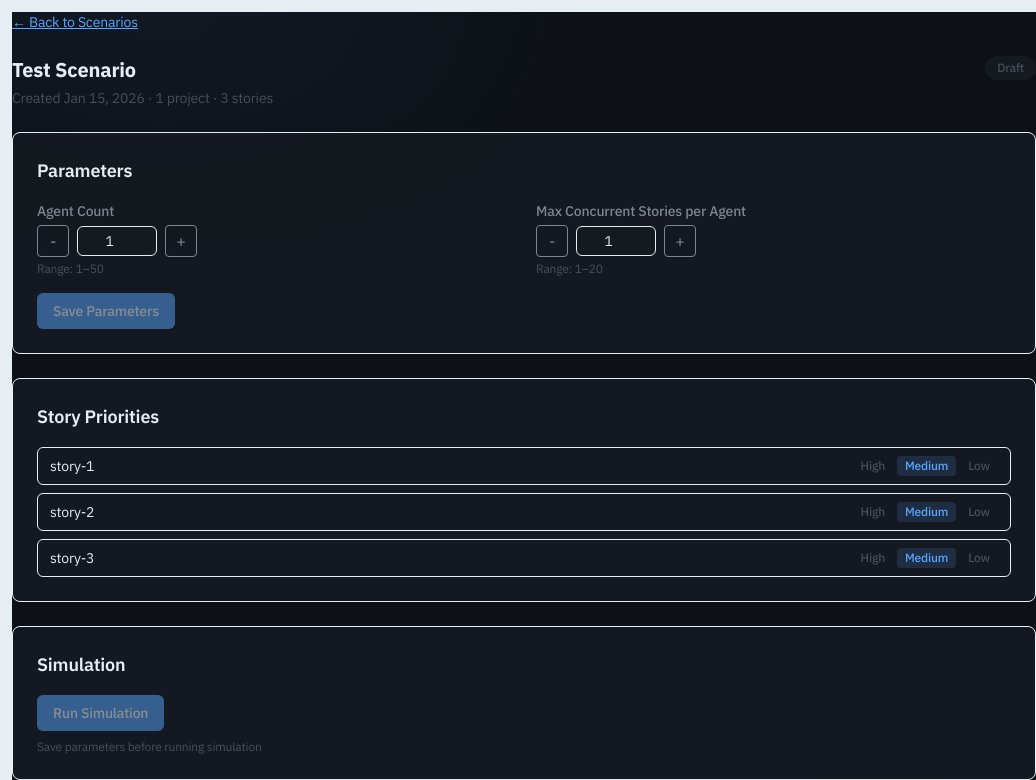
Test: ScenarioDetail › save button enables after priority change
The image size is (1036, 780).
Expected: the button "Save Parameters" is disabled, [37, 293, 175, 329]
// Change a story's priority
Click the button "High" in the row of "story-3" at coordinates (873, 558), box [852, 548, 893, 568]
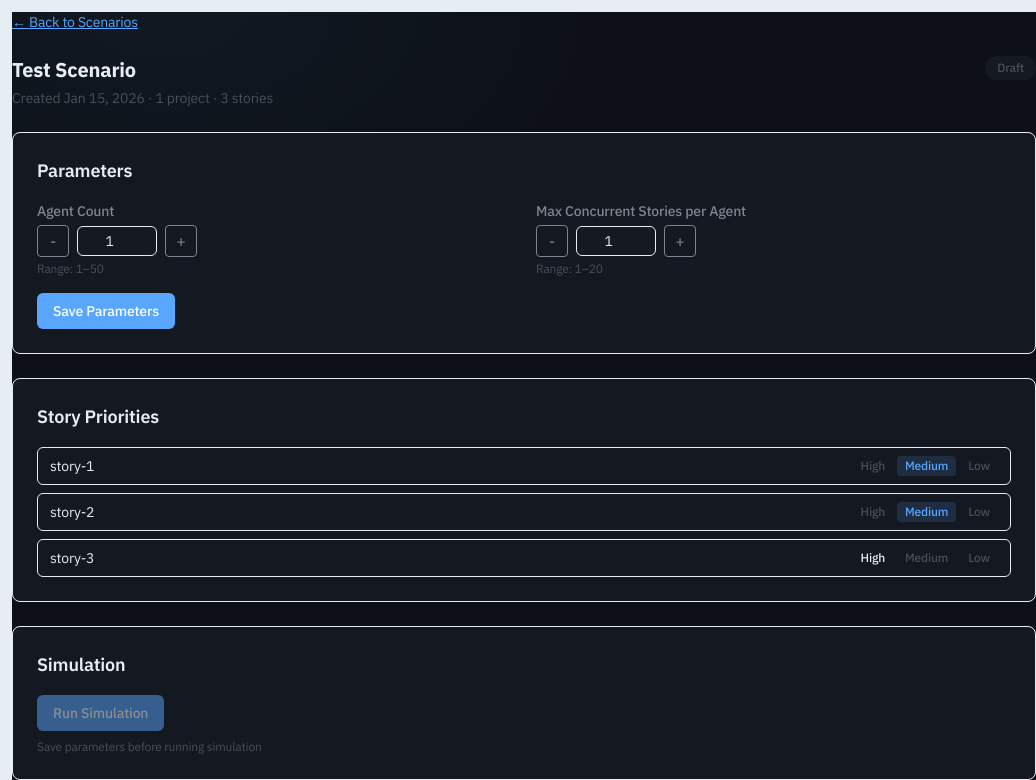
Now the button "Save Parameters" is enabled, box [37, 293, 175, 329]
